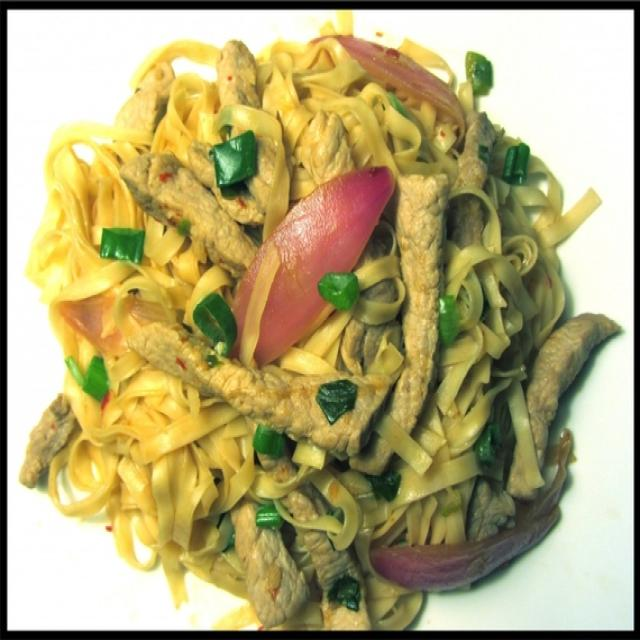面条主食: (29, 29, 603, 608)
